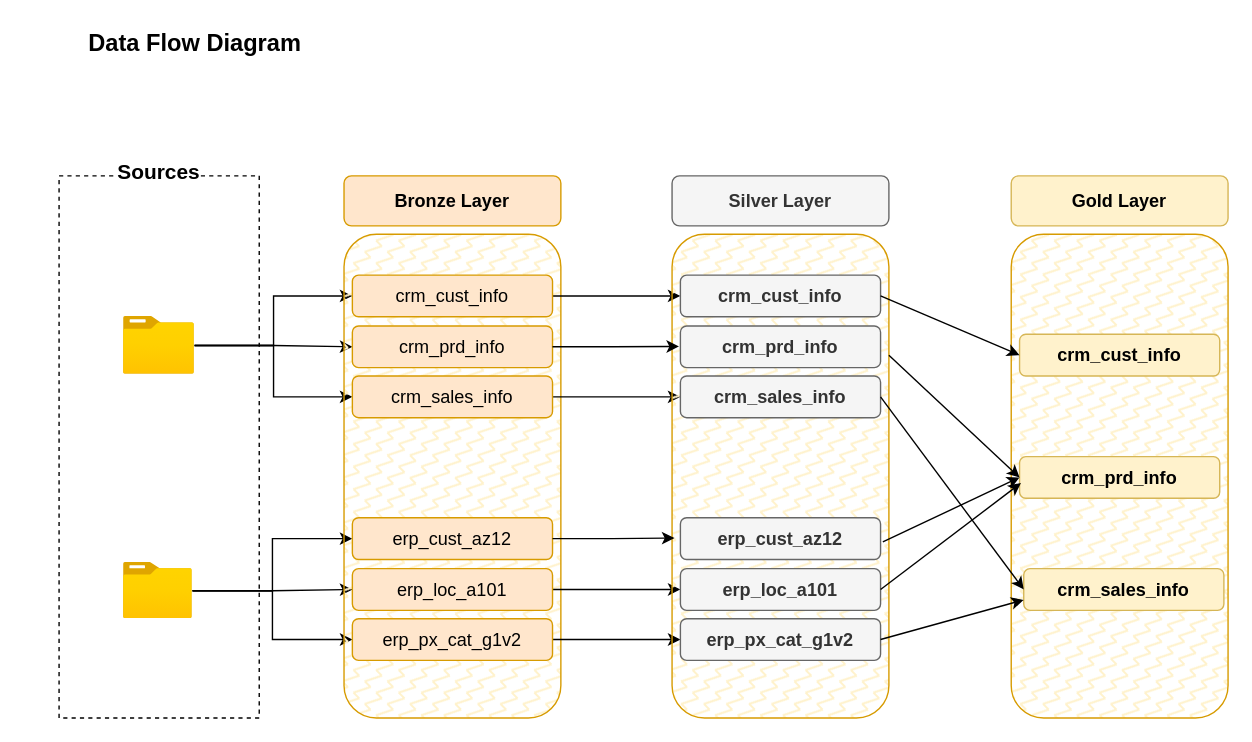
Image size: 1252x742. Some labels were removed from this diagram. Here are the shapes that lost their labels. From the top down, the centre of each, then its label:
At [158,345]: "CRM".
At [157,590]: "ERP".
